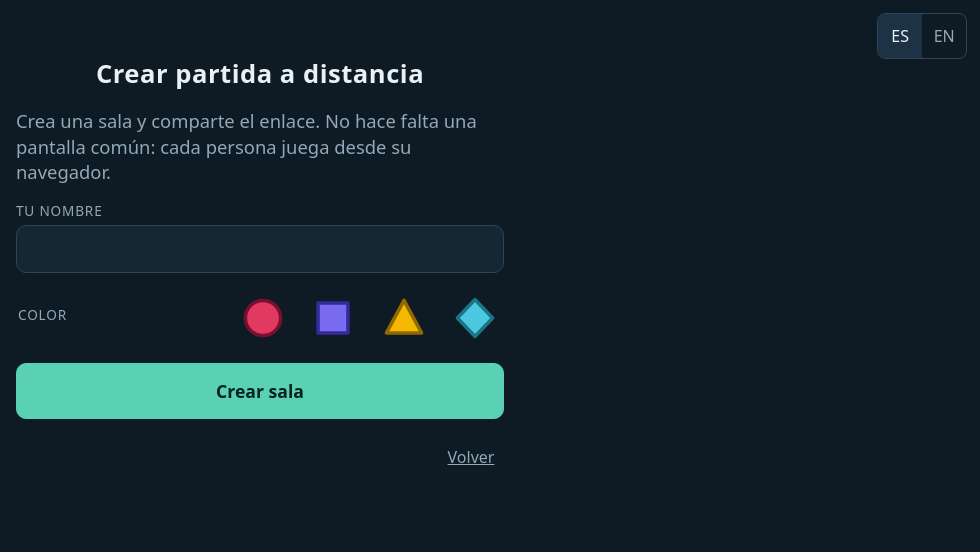
Test: crear una sala a distancia › exige un nombre y muestra el error del servidor
Click the button "Crear sala" at (260, 391), box [16,363,504,419]
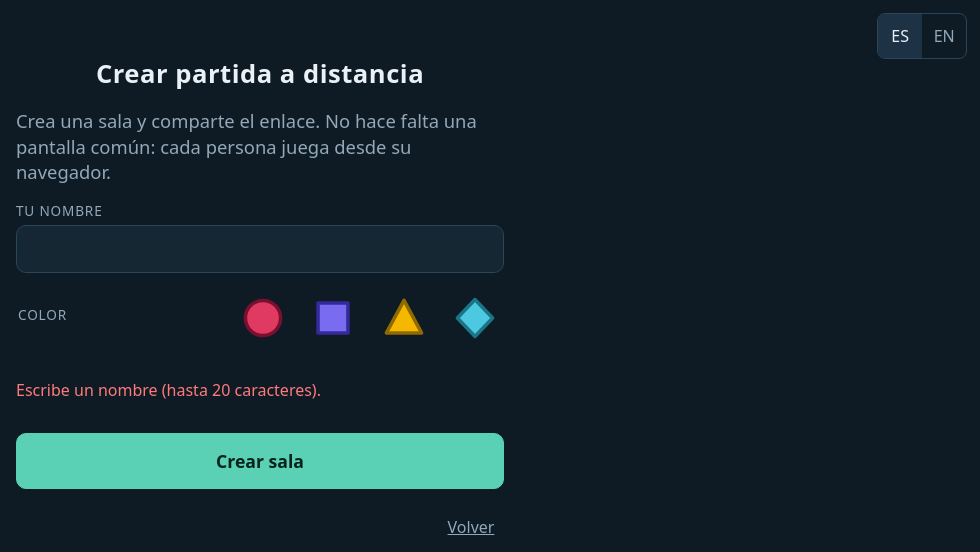
Check: the message reads "Escribe un nombre (hasta 20 caracteres).", box [16,379,321,401]
Type "Ana" into the field labelled "Tu nombre" at (260, 249), box [16,225,504,273]
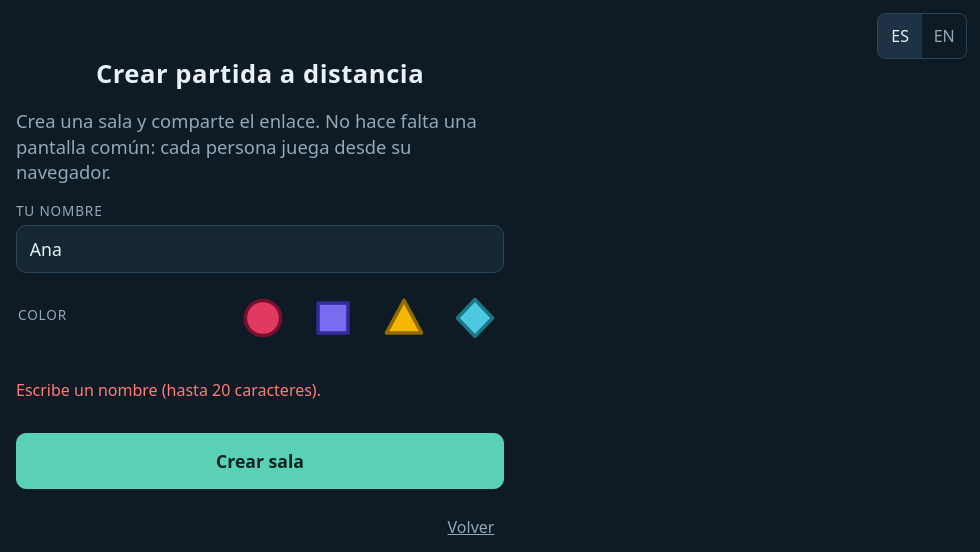
Click the button "Crear sala" at (260, 461), box [16,433,504,489]
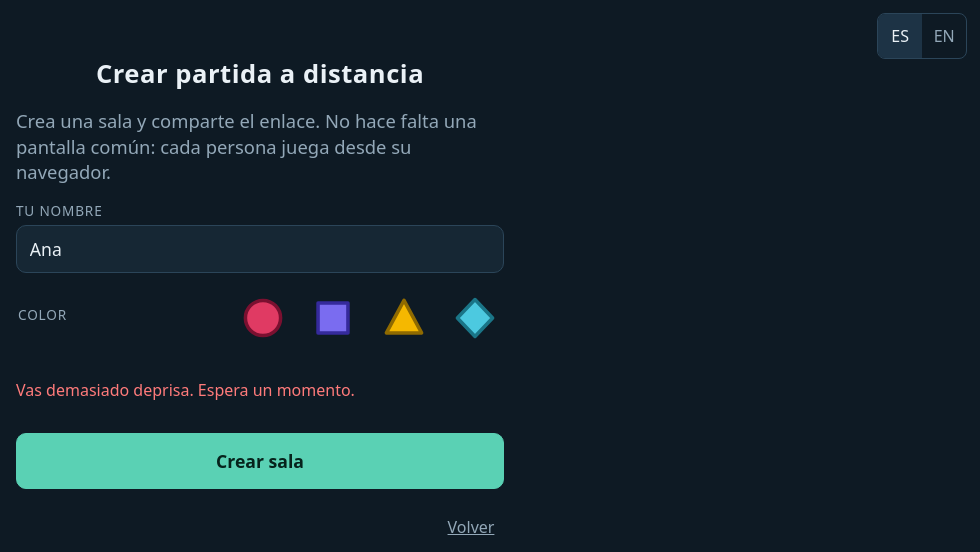
Check: the message reads "Vas demasiado deprisa. Espera un momento.", box [16,379,355,401]
